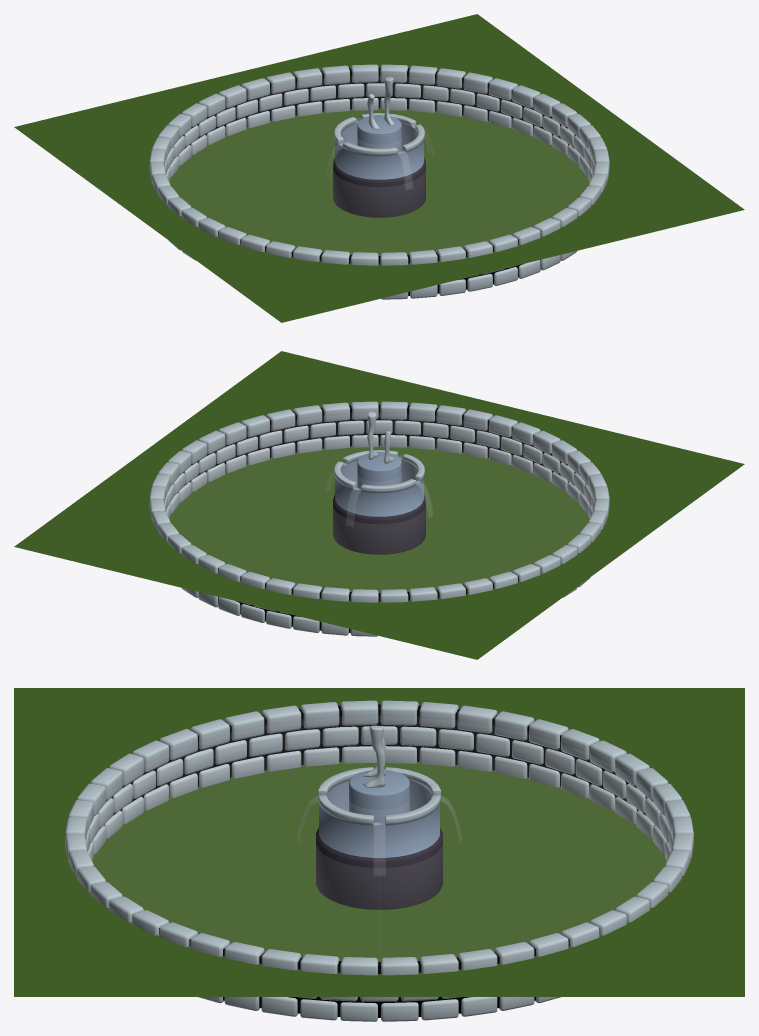
Rendered from ruins-fountain-1.fbx.
3 renders of one model, top to bottom at view 1: azimuth 30°, elevation 25°; view 2: azimuth 150°, elevation 25°; view 3: azimuth 270°, elevation 25°, orthographic. The views are drawn at different scales.
Visible parts, largest first — view 1: Ground.001, Ground, EdgeBricks, Fountain, StatueBase, Plane, Statue; view 2: Ground.001, Ground, EdgeBricks, Fountain, StatueBase, Plane, Statue; view 3: Ground.001, Ground, EdgeBricks, Fountain, StatueBase, Plane, Statue.
Boxes of the visible parts, <box> form: Ground.001: <box>14,14,744,322</box>; Ground: <box>169,108,589,255</box>; EdgeBricks: <box>149,64,609,299</box>; Fountain: <box>333,113,425,217</box>; StatueBase: <box>357,115,401,151</box>; Plane: <box>326,118,432,189</box>; Statue: <box>367,77,394,129</box>; Ground.001: <box>14,351,744,659</box>; Ground: <box>169,445,589,592</box>; EdgeBricks: <box>149,401,609,636</box>; Fountain: <box>333,450,425,554</box>; StatueBase: <box>357,452,401,488</box>; Plane: <box>326,455,432,526</box>; Statue: <box>367,411,394,463</box>; Ground.001: <box>14,688,744,996</box>; Ground: <box>92,761,666,961</box>; EdgeBricks: <box>65,700,693,1021</box>; Fountain: <box>316,767,442,909</box>; StatueBase: <box>349,770,409,822</box>; Plane: <box>297,796,461,875</box>; Statue: <box>363,725,385,788</box>.
Size of the model in its own units: 1200 by 307 by 1200.
